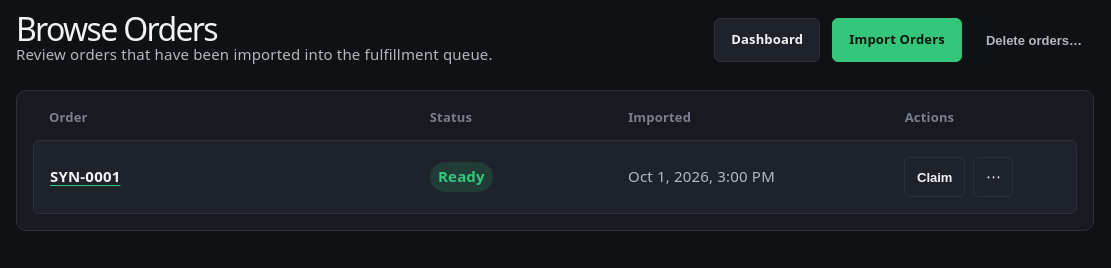
it: OrdersPage deletion › closes the row menu on Escape
Click the button named "actions": (993, 177) left=973, top=157, right=1013, bottom=197
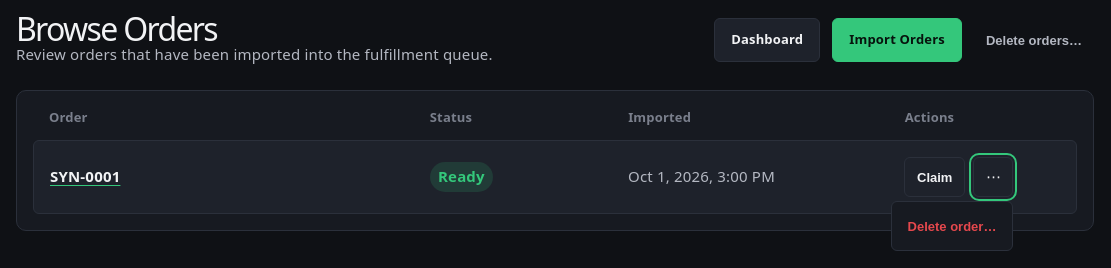
Press Escape
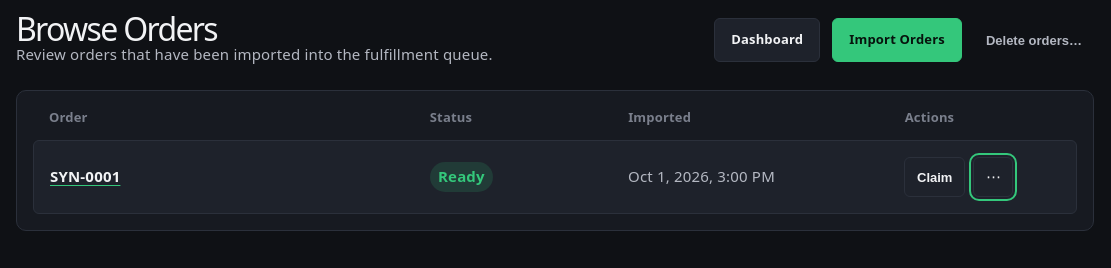
Expected: the menu item "Delete order…" is gone
